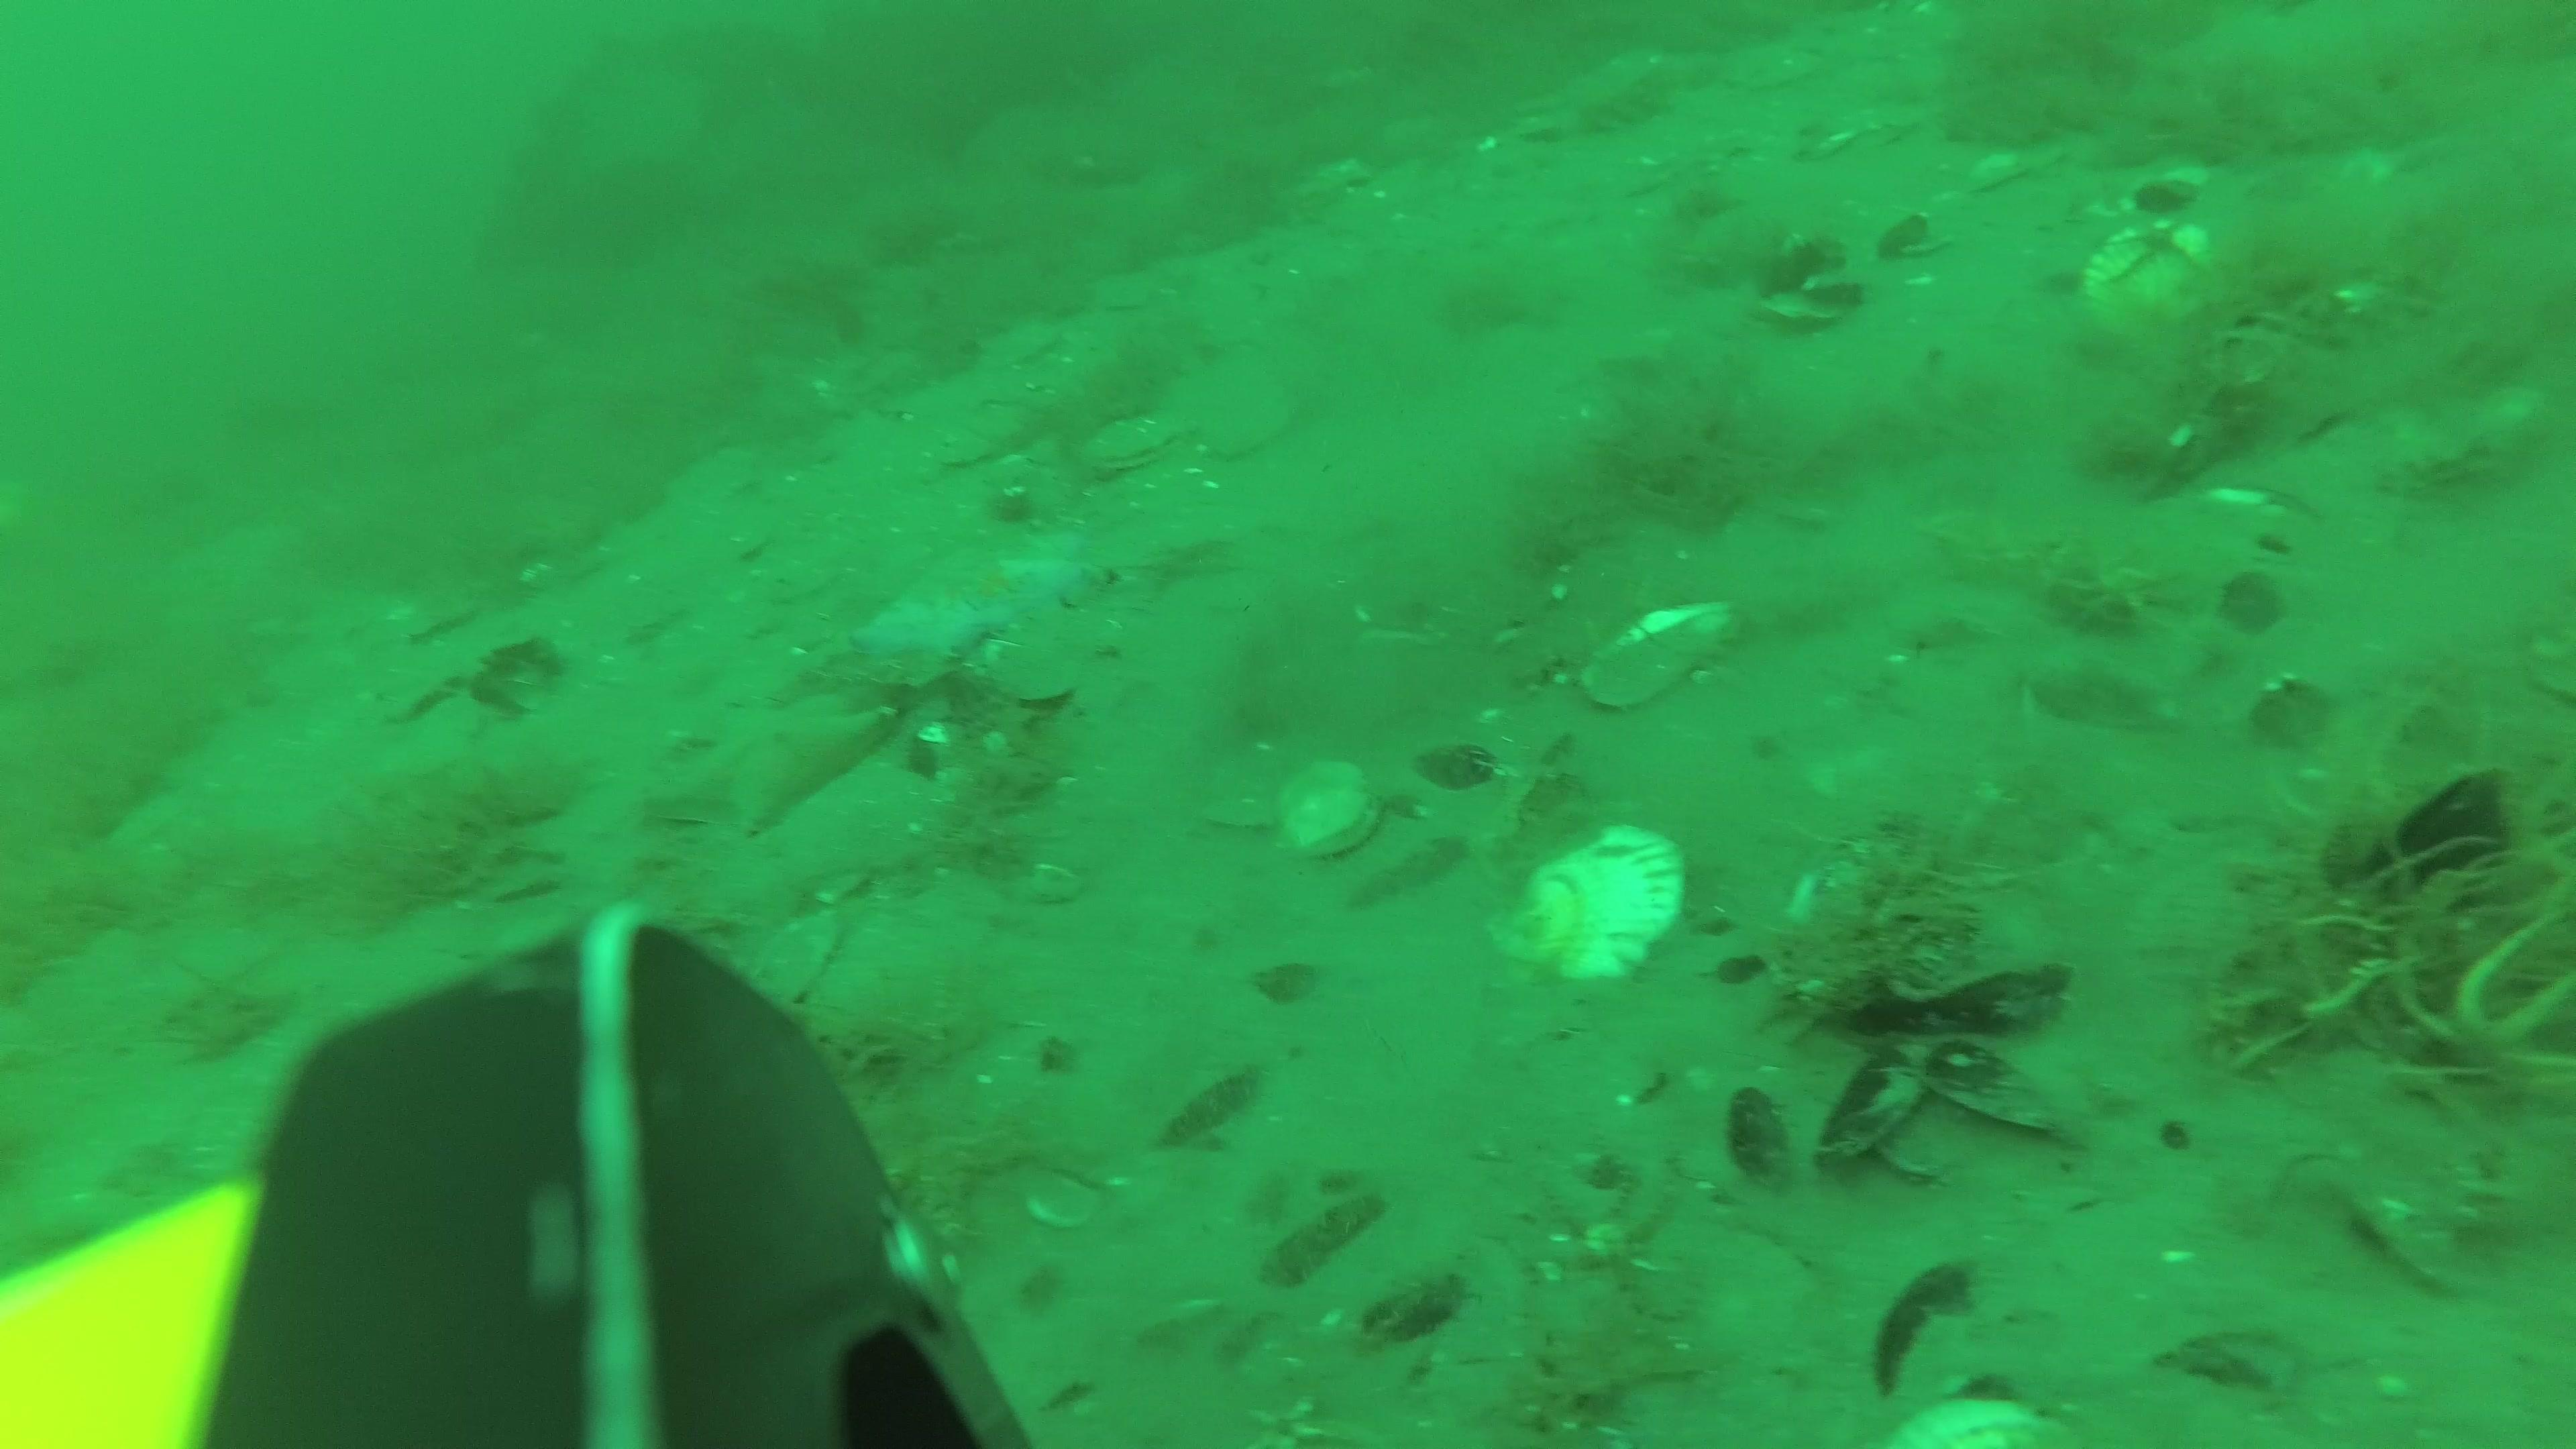scallop: (1493, 821, 1688, 980), (1585, 598, 1737, 709), (2095, 219, 2208, 326), (1865, 1403, 2065, 1449), (1284, 764, 1382, 858), (1207, 380, 1304, 455), (1086, 416, 1177, 469)
starfish: (849, 520, 1111, 658), (642, 702, 895, 828)
